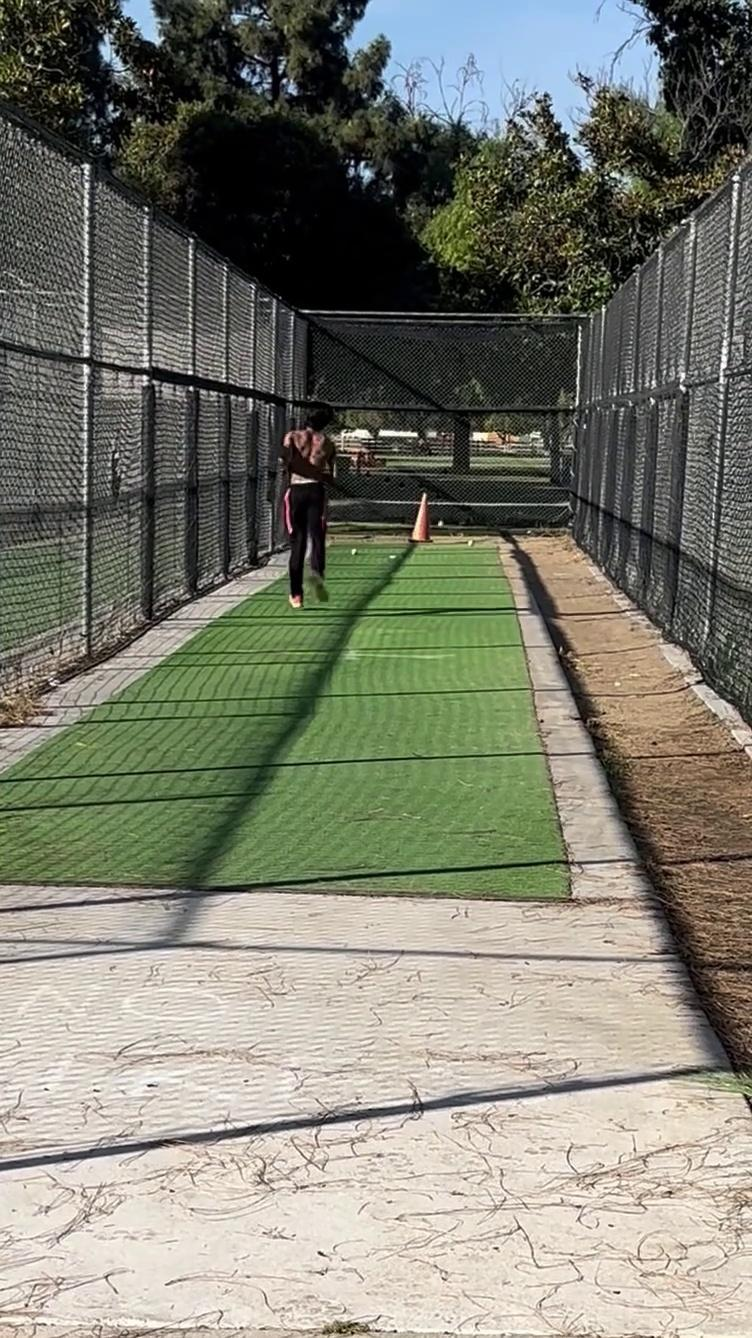ball: (434, 516, 446, 529)
